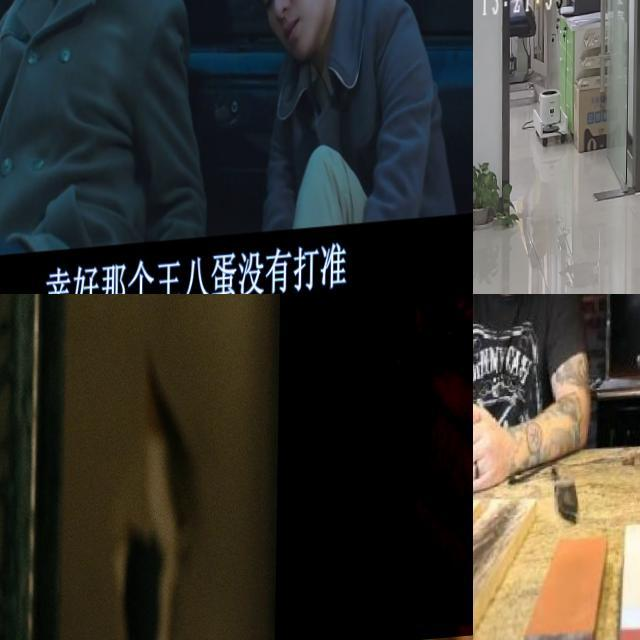gun-knife-thesis - v11 Yolov5 augmented: (276, 294, 473, 640), (0, 0, 26, 105)
